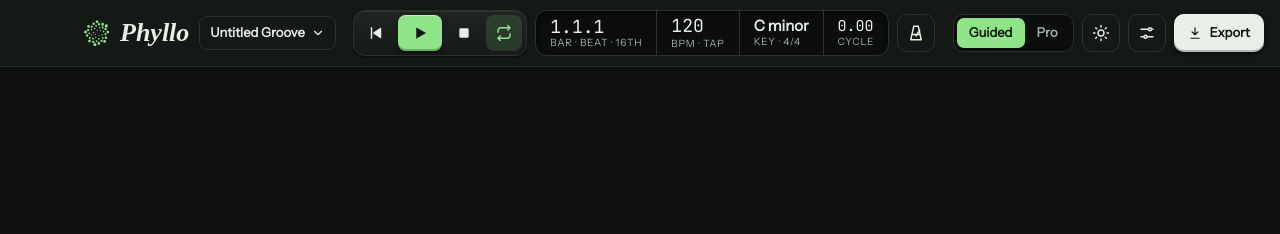
Test: AppHeader › should rename the project inline
Step 1. Click the button "Untitled Groove" → (268, 33), box [199,16,336,50]
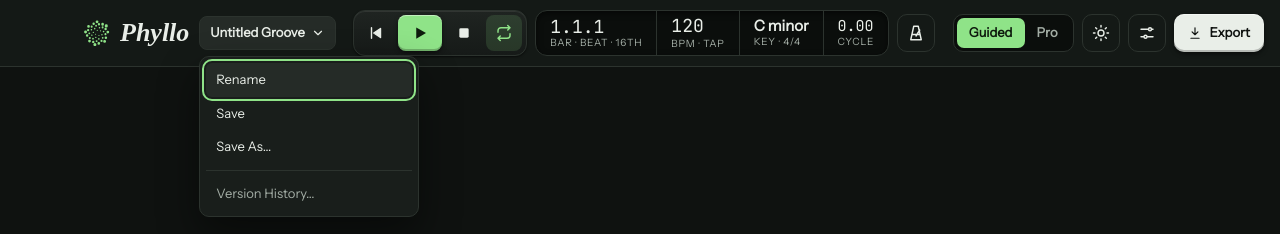
Step 2. Click the menu item "Rename" → (309, 80), box [206,63,412,96]
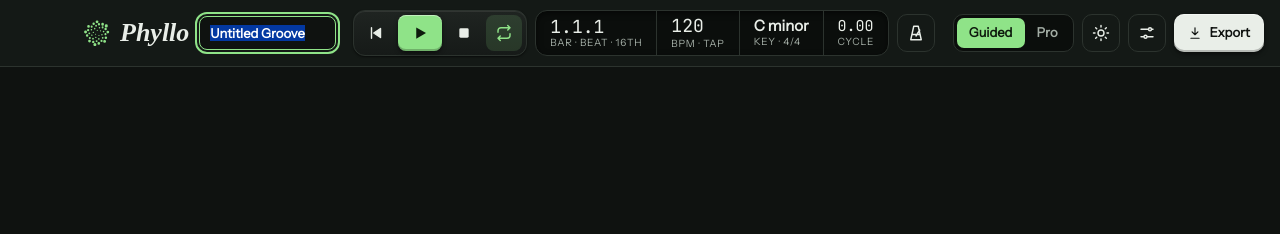
Step 3. Type keys "{Control>}a{/Control}Night Bus{Enter}"
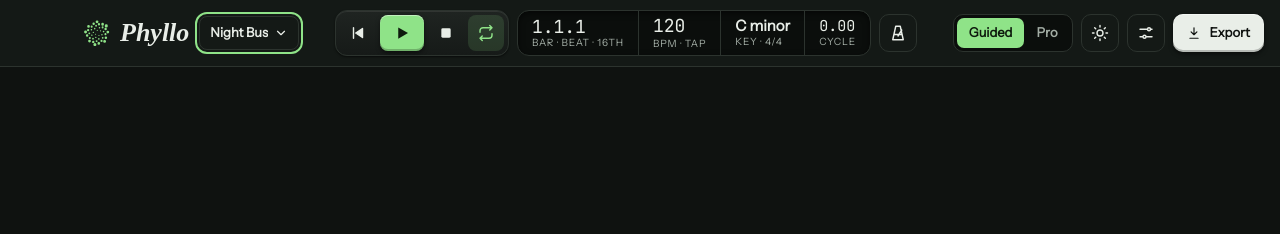
Now the text "Night Bus" is shown, box [210,24,268,42]
